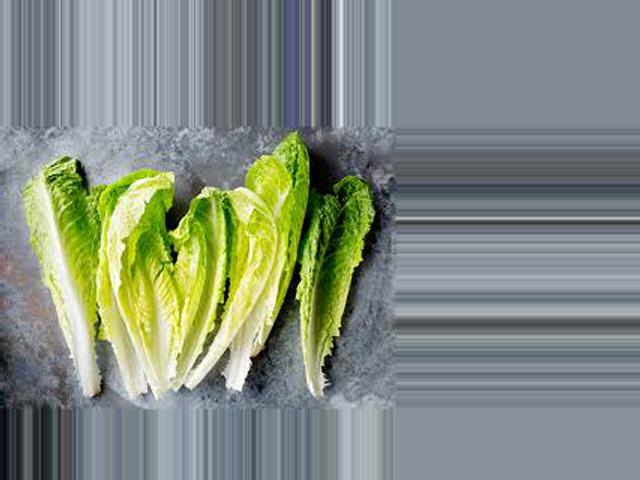lettuce: (292, 176, 366, 404)
